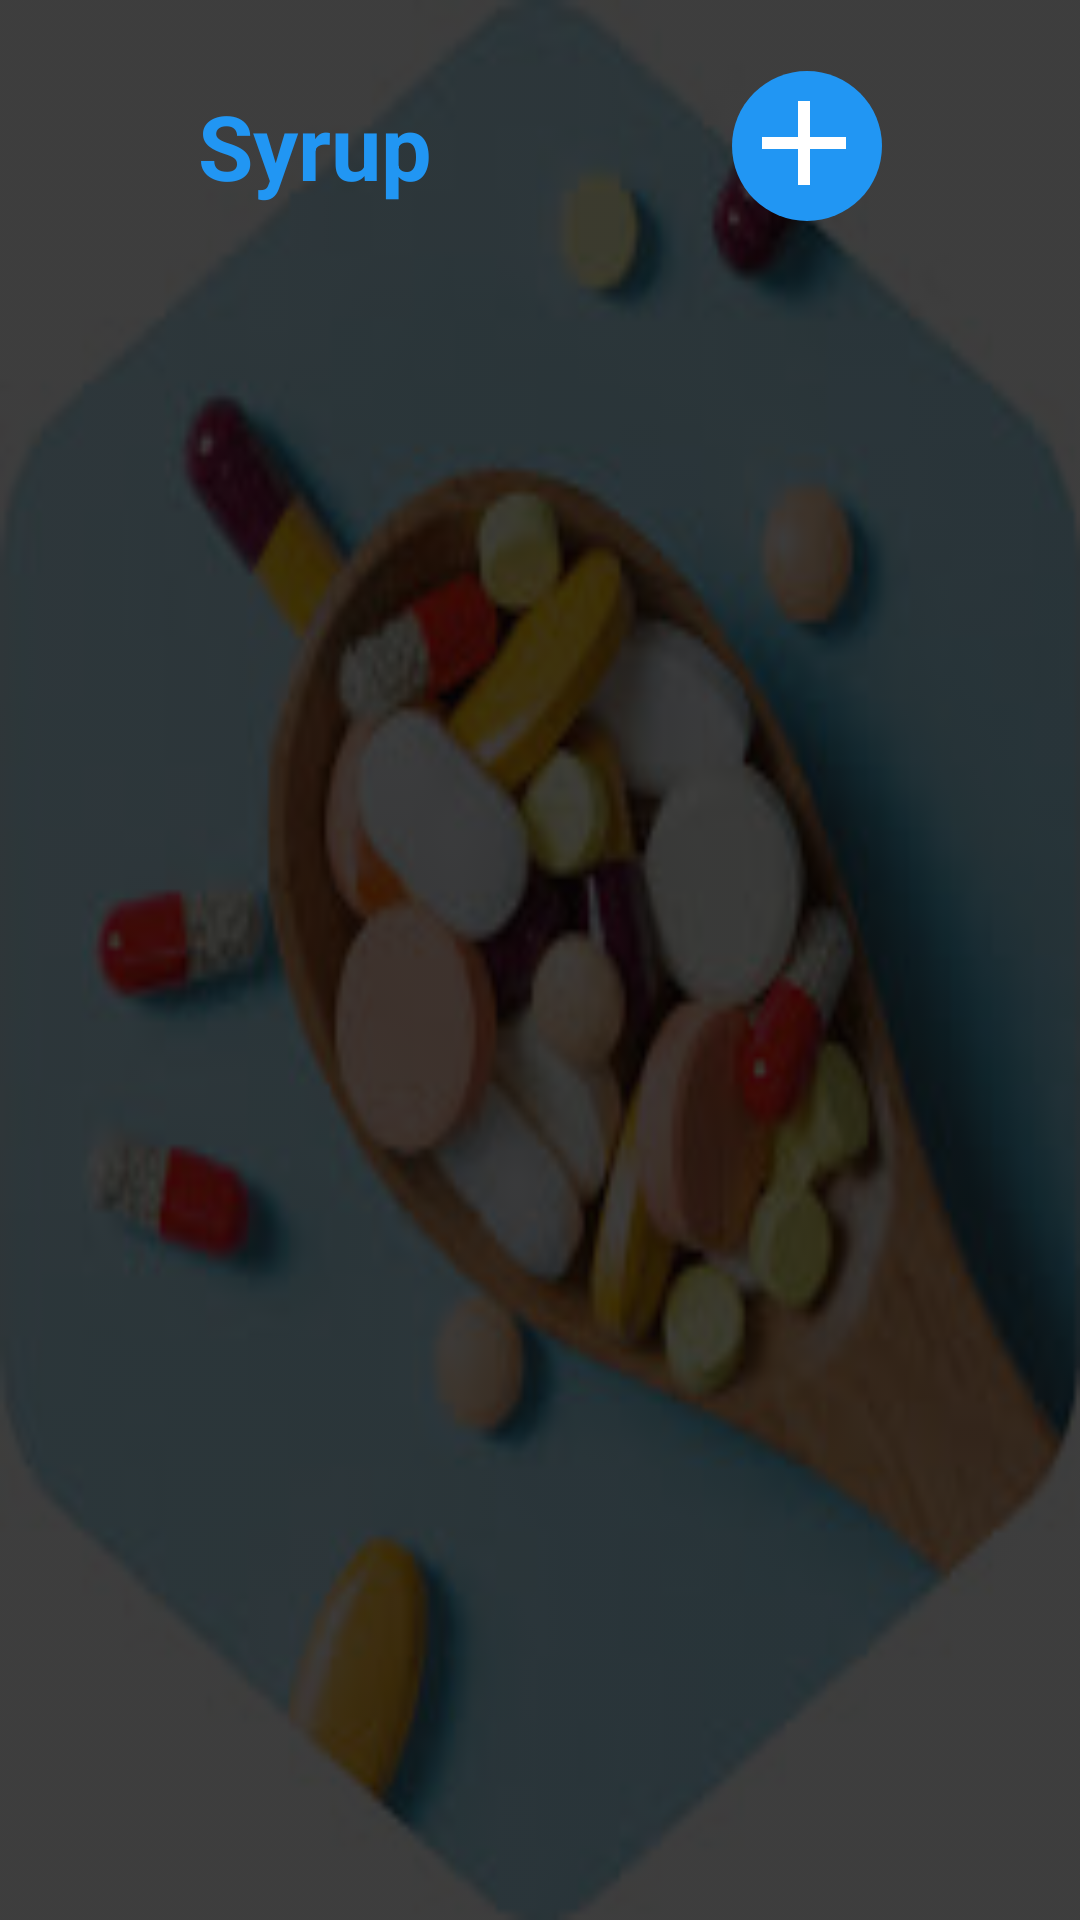

Where to tap for icons on this 1080px×1920px app screen, as (x=x, y=y):
add: (x=807, y=146)
